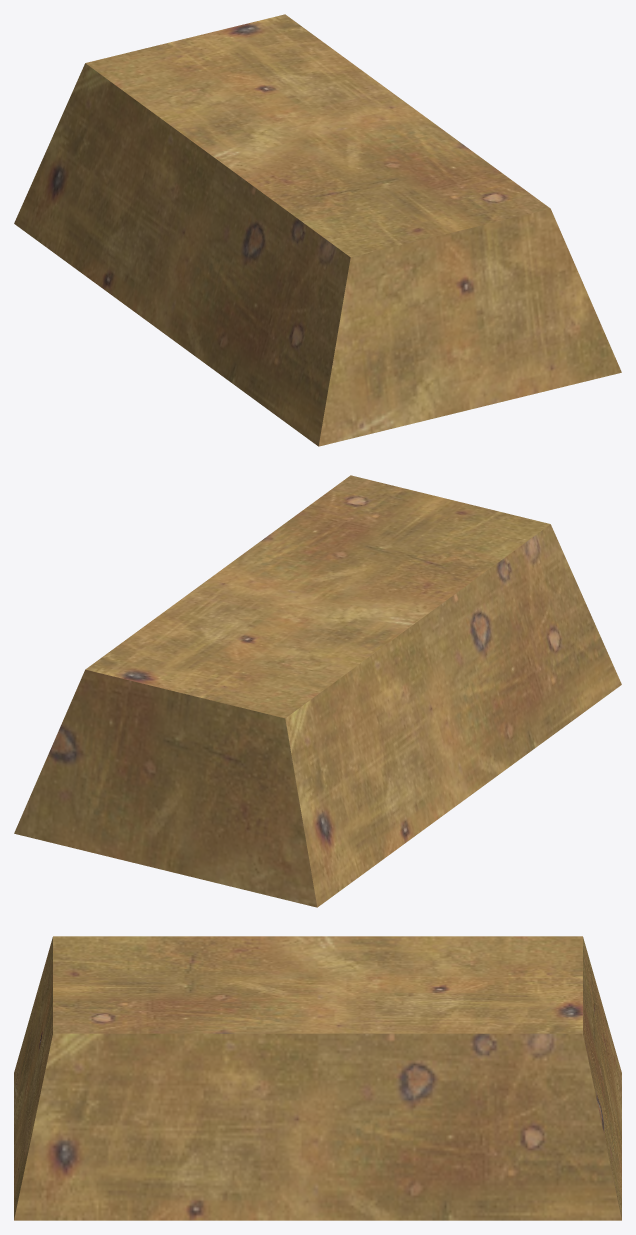
Rendered from ingot.gltf.
3 renders of one model, top to bottom at view 1: azimuth 30°, elevation 25°; view 2: azimuth 150°, elevation 25°; view 3: azimuth 270°, elevation 25°, orthographic.
Visible parts, largest first — view 1: shell; view 2: shell; view 3: shell.
Boxes of the visible parts, x1,y1,x2,y2 form: shell: (14, 14, 621, 446); shell: (14, 475, 621, 907); shell: (14, 936, 621, 1220).
Size of the model in its own units: 0.2864 by 0.1464 by 0.4981.
1 material, 1 textured.
